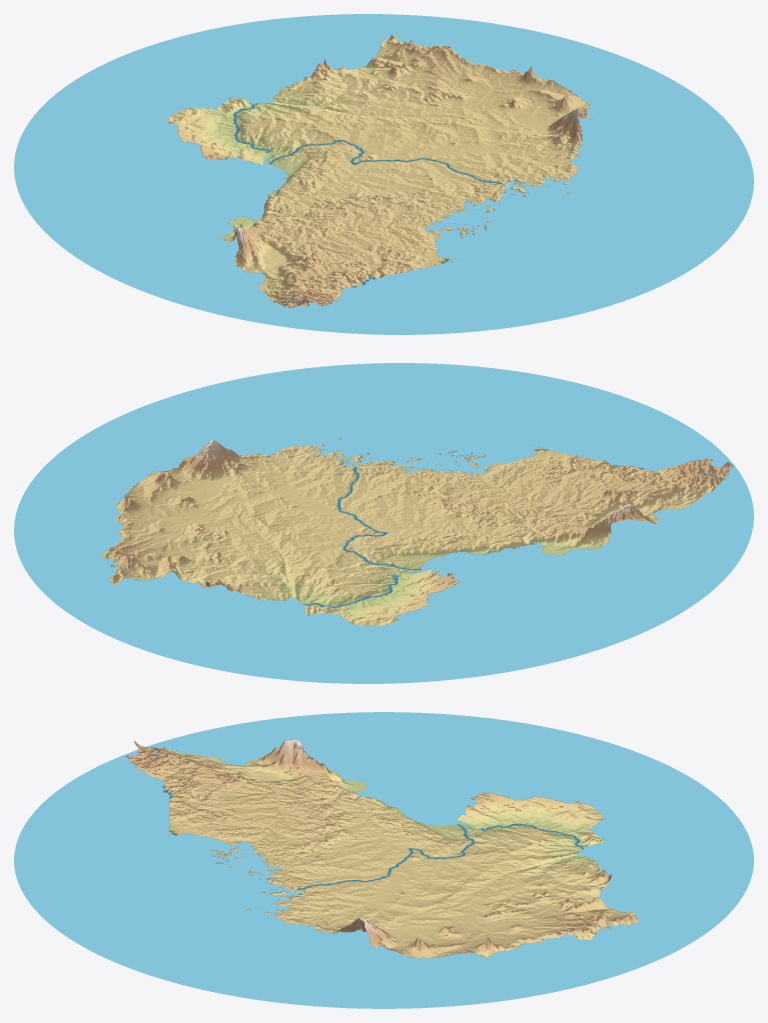
Rendered from UGA-terrain.glb.
The picture shows the model from 3 angles, top to bottom: view 1: azimuth 30°, elevation 25°; view 2: azimuth 150°, elevation 25°; view 3: azimuth 270°, elevation 25°; orthographic projection. The views are drawn at different scales.
Visible parts, largest first — view 1: Relevo com hidrografia; view 2: Relevo com hidrografia; view 3: Relevo com hidrografia.
Part boxes in pixels (x1,y1,x2,y2): Relevo com hidrografia: (14, 14, 753, 334); Relevo com hidrografia: (14, 363, 753, 683); Relevo com hidrografia: (14, 712, 753, 1008).
Bounding box in the file's own units: 2.19 × 0.1013 × 2.3.
2 materials, 1 textured.
